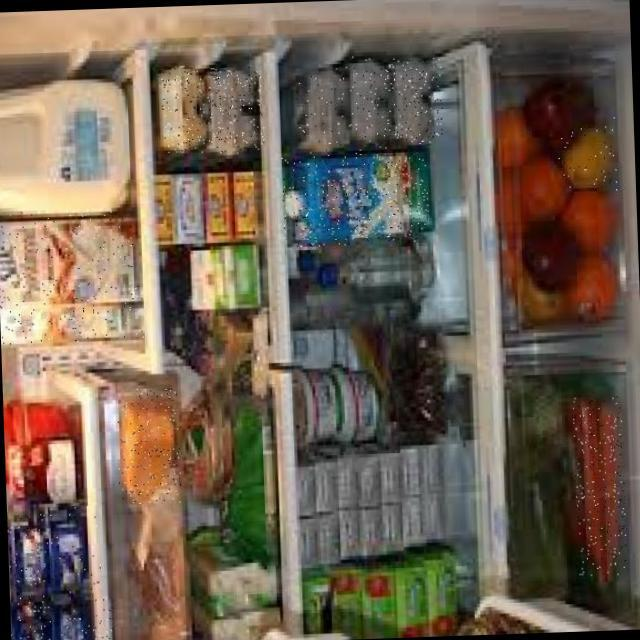Huevos: (295, 62, 364, 158), (383, 55, 444, 145), (206, 65, 265, 155), (161, 64, 207, 153), (352, 54, 389, 149)
Limón: (557, 116, 618, 191)
Queso: (115, 386, 181, 503)
Yogur: (51, 504, 102, 594), (7, 513, 51, 592), (50, 597, 112, 640), (9, 594, 52, 640)
Zanahoria: (573, 395, 627, 575)
milk: (282, 150, 430, 246), (0, 205, 134, 311), (0, 278, 146, 343)
